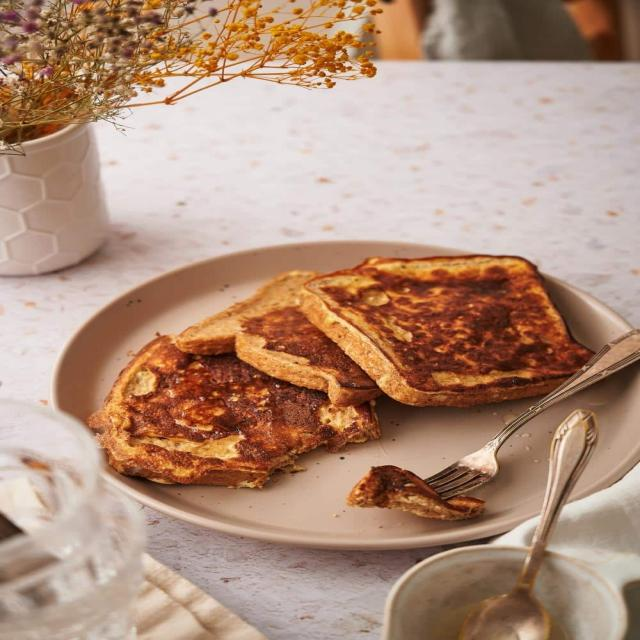Bread: (86, 336, 381, 488), (300, 255, 592, 407), (234, 306, 382, 406)
